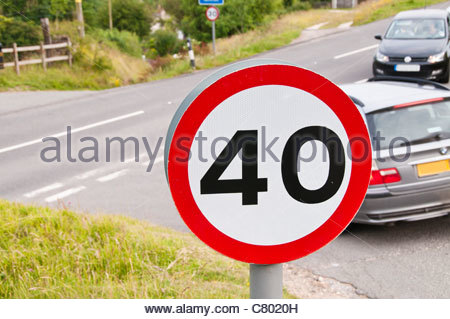Speed_limit_40km: (167, 65, 375, 265)
